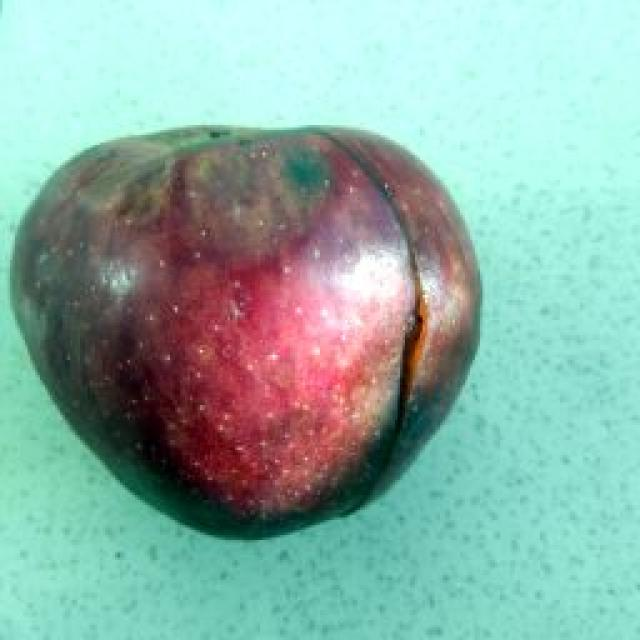Bad_Apple: (11, 126, 480, 536)
